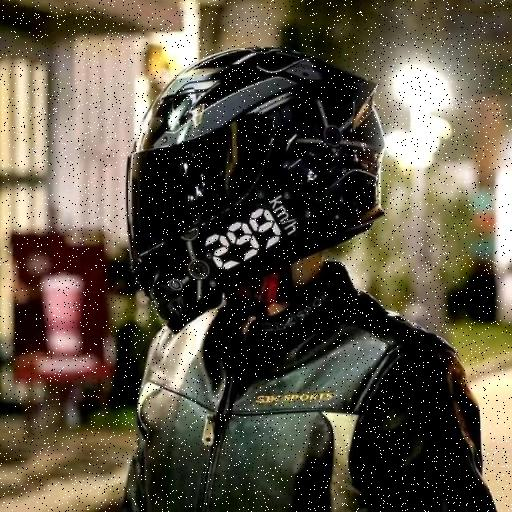Helmet: (128, 48, 383, 331)
